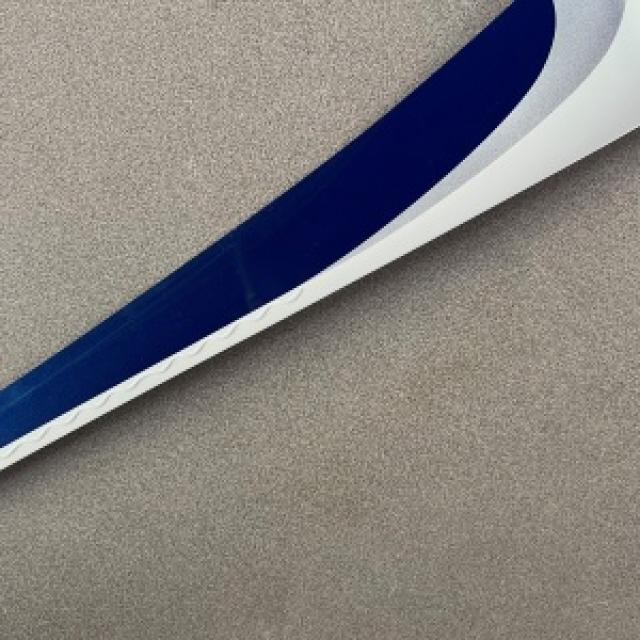healthy: (0, 128, 638, 638), (0, 0, 638, 465)
